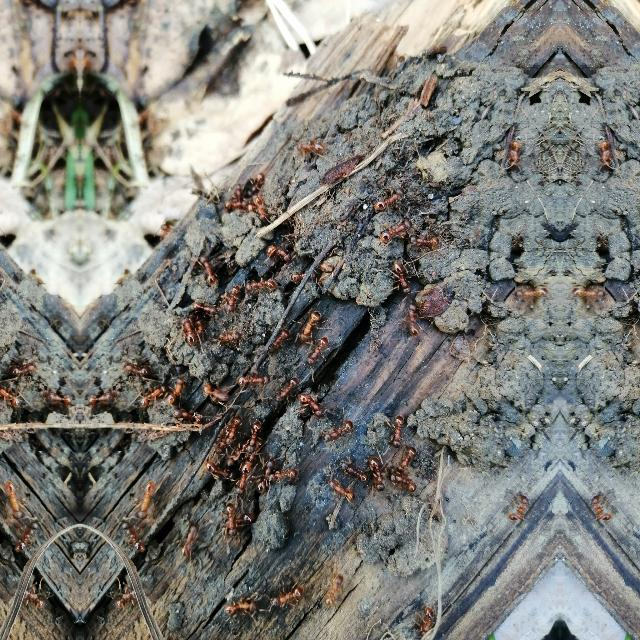Myrmica: (266, 574, 308, 612), (286, 128, 328, 164), (320, 568, 348, 612), (388, 257, 416, 301), (321, 413, 357, 447), (221, 586, 261, 616), (119, 516, 149, 556), (11, 516, 41, 556), (175, 522, 202, 566), (294, 306, 322, 348), (378, 212, 412, 246), (326, 472, 358, 508), (240, 270, 280, 298), (194, 249, 220, 291), (296, 388, 326, 424), (405, 224, 443, 252), (134, 476, 158, 520), (2, 476, 26, 520), (118, 351, 154, 379), (400, 298, 424, 340), (502, 130, 526, 172), (6, 351, 42, 379), (594, 130, 618, 172), (200, 374, 233, 404), (176, 314, 202, 352), (373, 185, 405, 215), (388, 464, 418, 496), (234, 364, 268, 392), (338, 457, 369, 487), (136, 376, 164, 409), (254, 454, 276, 496), (85, 382, 118, 410), (368, 448, 388, 494), (413, 602, 437, 640), (233, 457, 255, 498), (42, 382, 74, 410), (268, 318, 294, 352), (166, 372, 190, 408), (221, 280, 245, 316), (306, 331, 330, 367), (222, 498, 242, 540), (266, 234, 296, 262), (272, 458, 302, 486), (512, 282, 550, 304), (570, 282, 608, 304), (204, 457, 236, 483), (225, 509, 259, 533), (388, 408, 408, 448), (0, 376, 24, 408), (222, 409, 244, 443), (224, 433, 246, 467), (274, 372, 298, 403), (217, 324, 245, 350), (114, 580, 140, 608), (20, 580, 46, 608), (245, 415, 263, 455), (250, 193, 272, 225), (395, 441, 419, 469), (508, 494, 530, 524), (590, 494, 612, 524), (167, 406, 201, 424), (222, 198, 250, 218), (188, 298, 218, 316), (250, 166, 268, 194), (288, 267, 320, 281), (153, 221, 175, 241), (213, 422, 229, 446), (0, 221, 6, 241)
